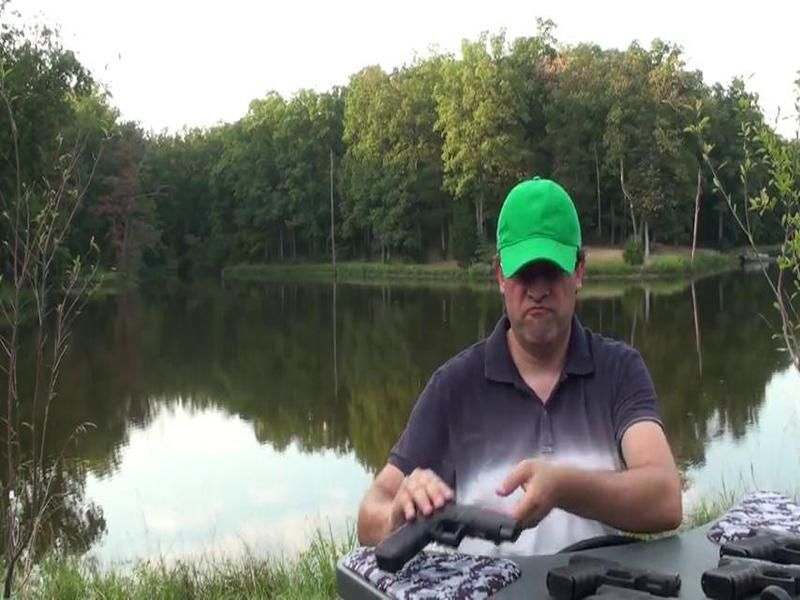Pistola: (547, 540, 682, 600)
